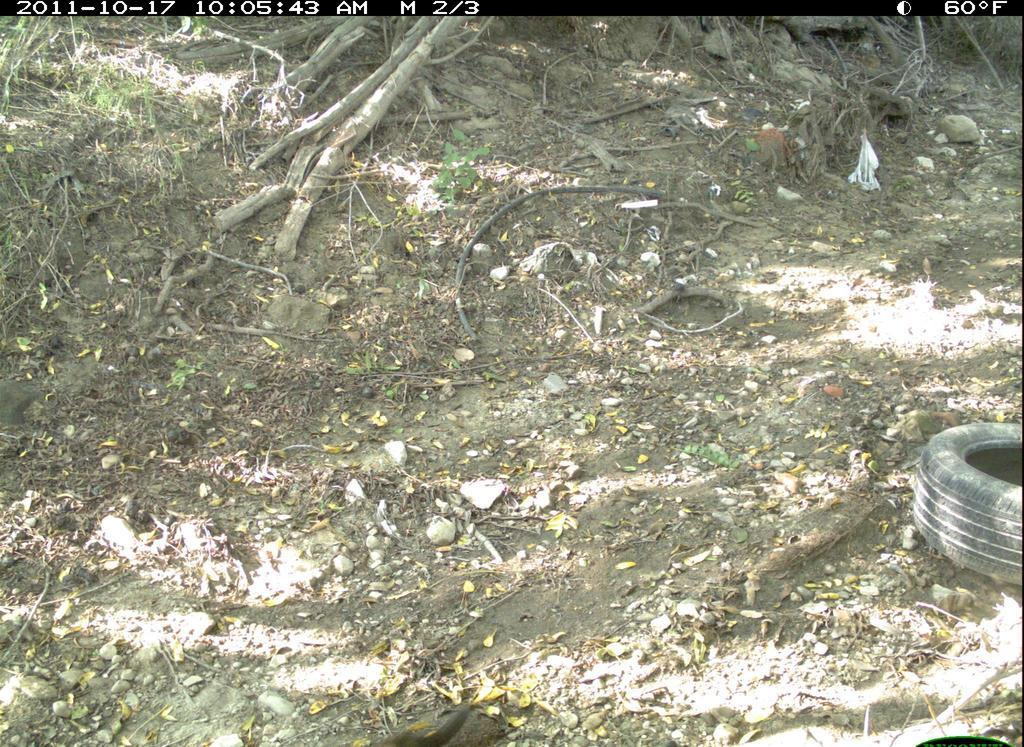cat: (332, 684, 527, 747)
